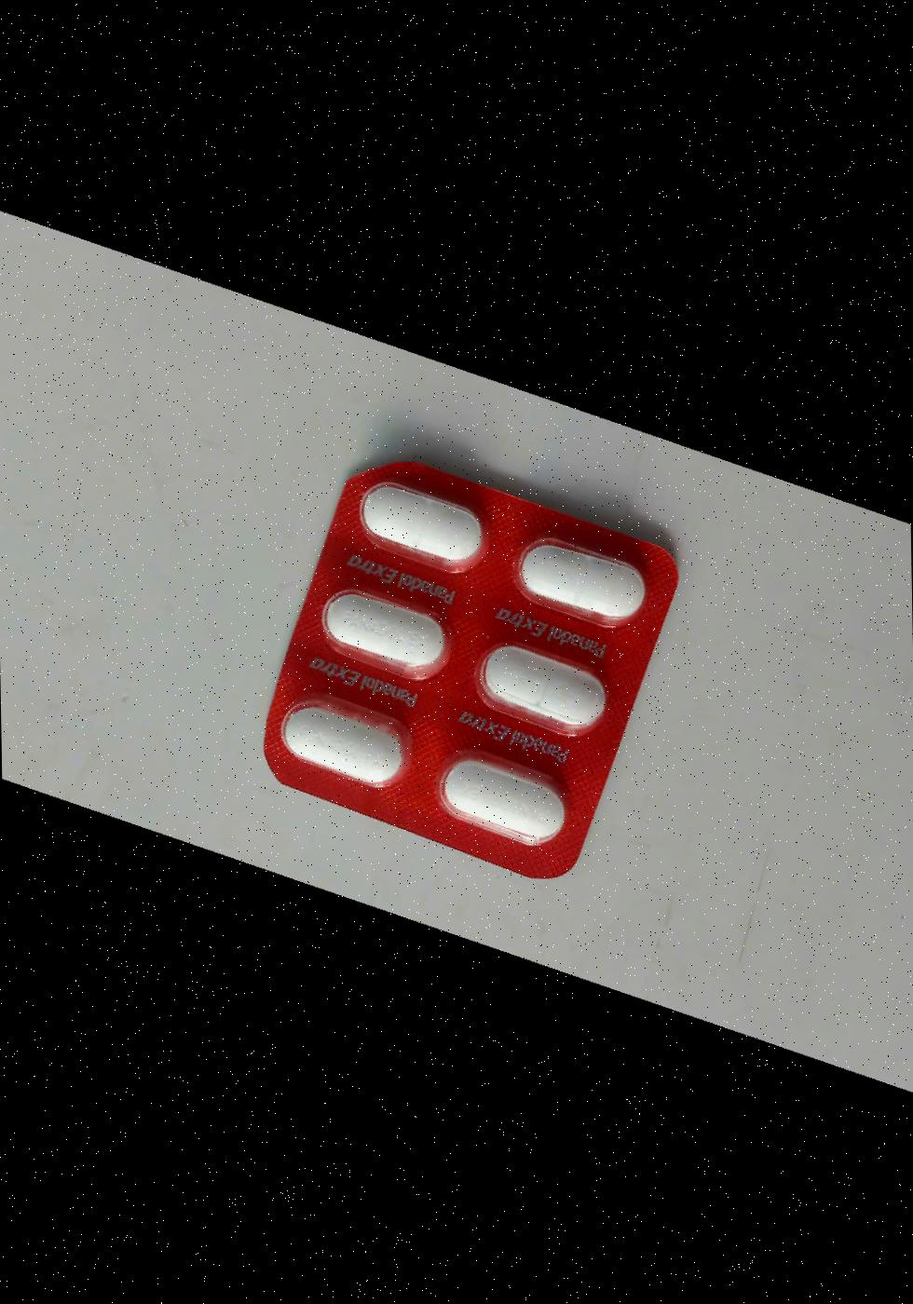Full: (462, 630, 623, 747), (307, 575, 468, 692), (266, 686, 427, 803), (499, 523, 659, 640), (341, 467, 502, 583), (422, 744, 582, 860)
